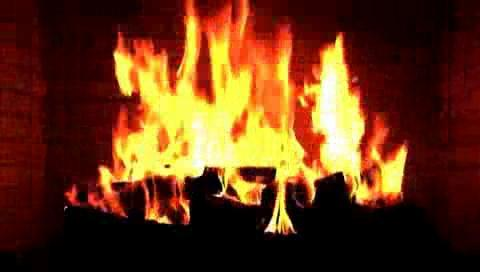fire: (101, 18, 388, 232)
